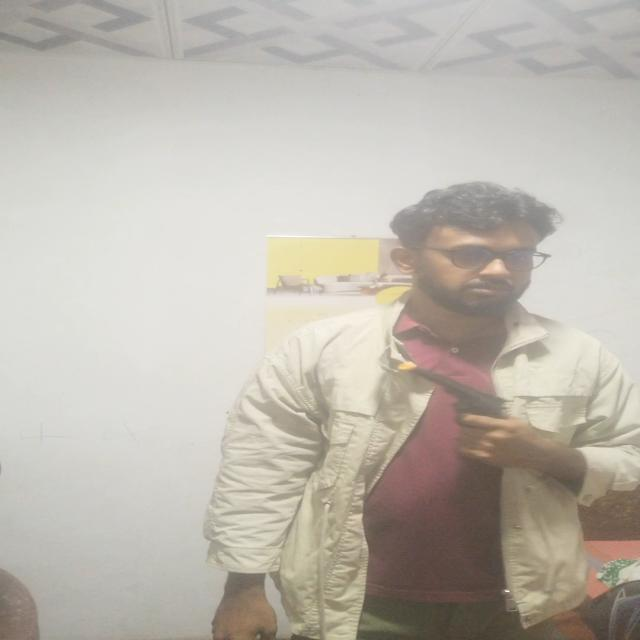Gun_Holder: (384, 351, 539, 457)
Jacket_Wearer: (178, 295, 640, 609)
Person: (176, 186, 639, 640)
